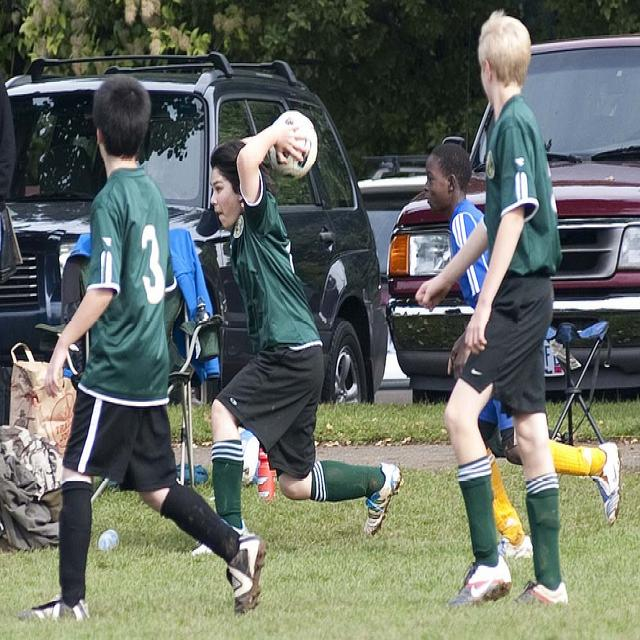Vehicle: (3, 53, 388, 427), (382, 37, 640, 408), (356, 152, 428, 322)
